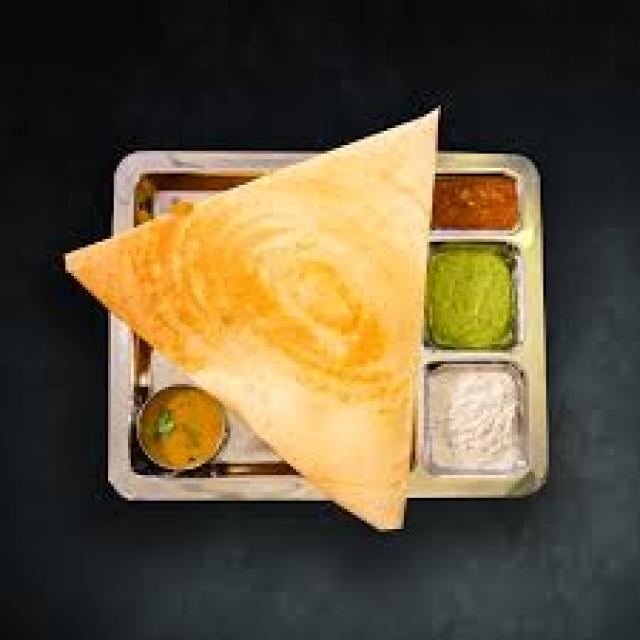DOSA: (61, 103, 441, 535)
